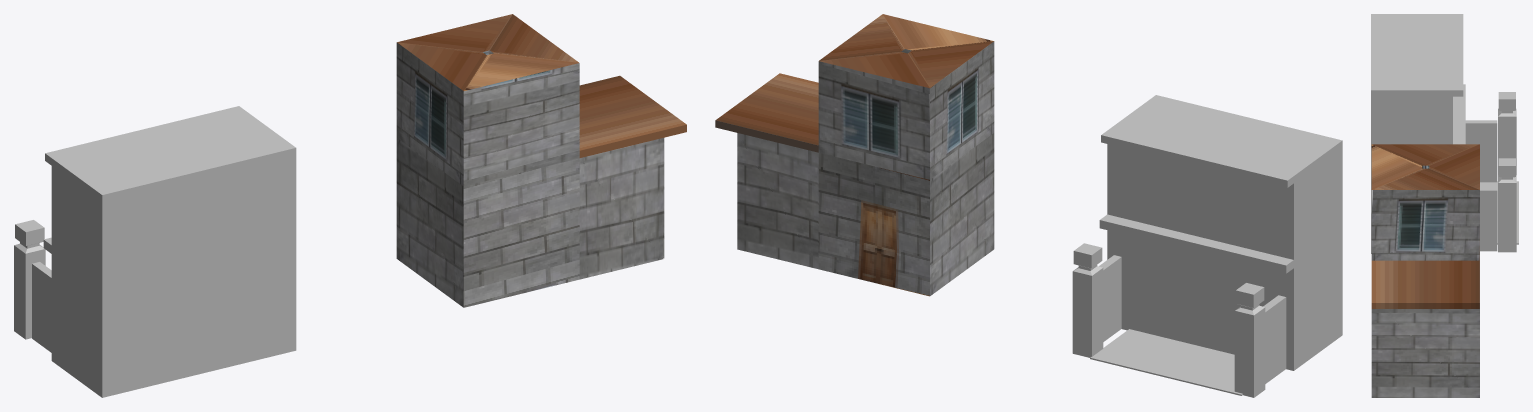
The model's file is house4.fbx.
3 views of the same model, side by side, from view 1: azimuth 30°, elevation 25°; view 2: azimuth 150°, elevation 25°; view 3: azimuth 270°, elevation 25° (orthographic). The views are drawn at different scales.
Parts seen in each view (by area): view 1: Cube, Cube.001; view 2: Cube, Cube.001; view 3: Cube.001, Cube.
Part boxes in pixels (<box>): Cube: <box>14,106,296,397</box>; Cube.001: <box>396,14,686,307</box>; Cube: <box>1072,95,1342,397</box>; Cube.001: <box>715,14,994,296</box>; Cube.001: <box>1371,144,1479,397</box>; Cube: <box>1371,14,1518,253</box>.
Size of the model in its own units: 5837 by 2079 by 1581.
